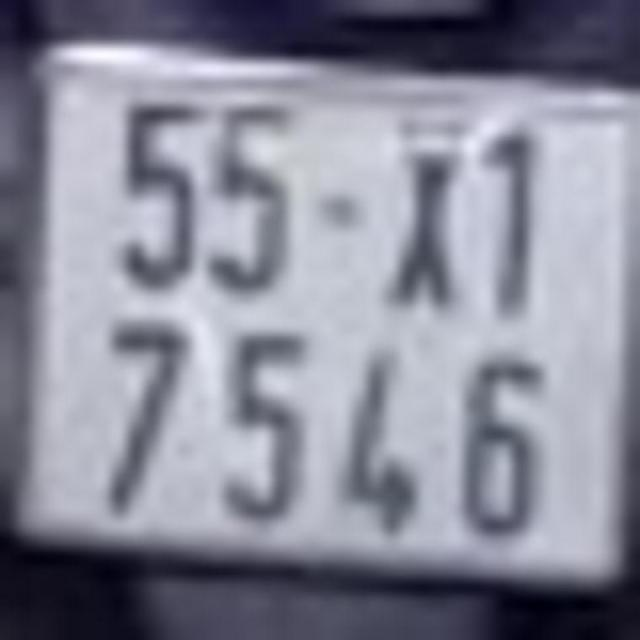1: (480, 111, 542, 312)
4: (342, 337, 418, 537)
5: (209, 94, 293, 298), (225, 324, 308, 524), (123, 98, 200, 292)
6: (452, 342, 547, 540)
7: (106, 314, 195, 522)
X: (378, 105, 462, 304)
